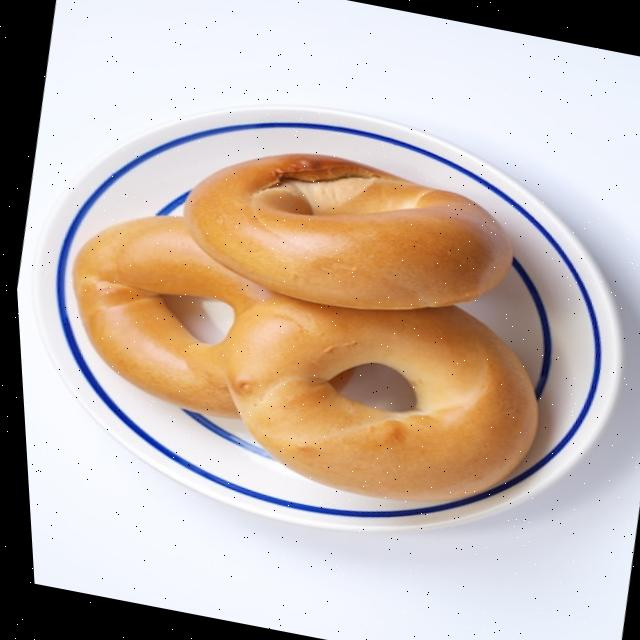Bagel: (221, 294, 533, 500), (182, 153, 508, 309), (70, 217, 269, 417)
